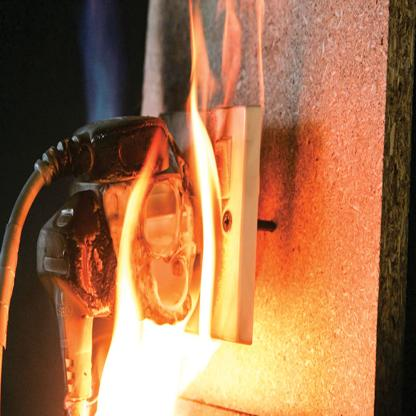fire: (78, 1, 281, 416)
